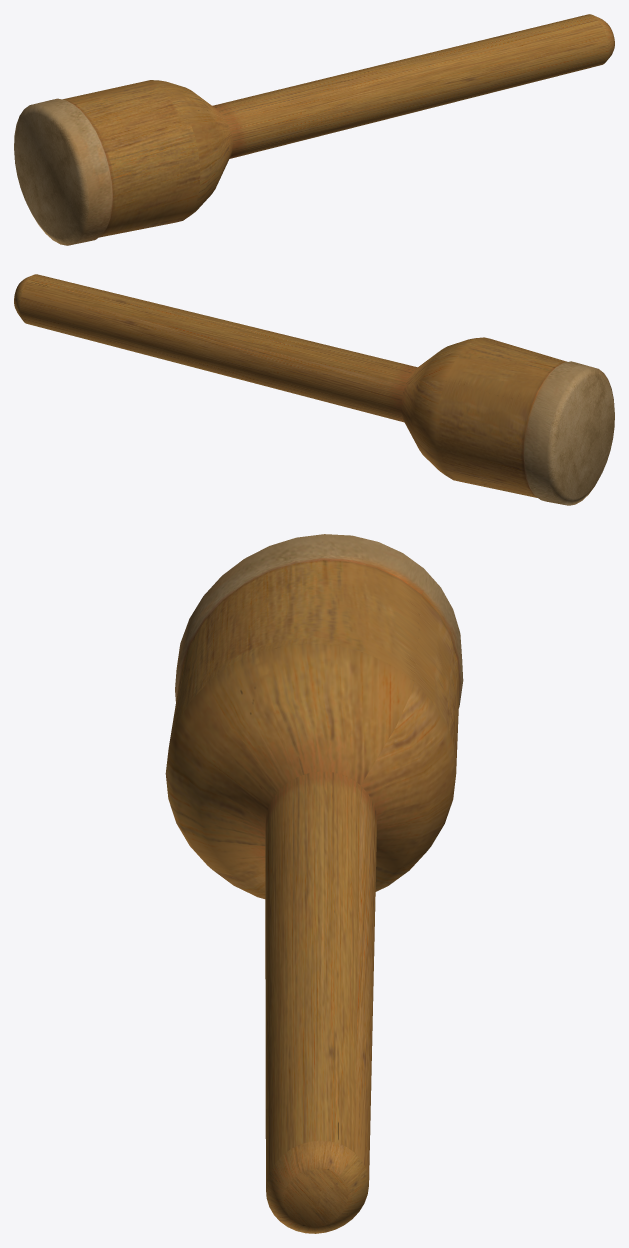
Rendered from quinjengue.glb.
3 views of the same model, one above another, from view 1: azimuth 30°, elevation 25°; view 2: azimuth 150°, elevation 25°; view 3: azimuth 270°, elevation 25° (orthographic). The views are drawn at different scales.
Visible parts, largest first — view 1: Cylinder.006; view 2: Cylinder.006; view 3: Cylinder.006.
Boxes of the visible parts, x1,y1,x2,y2 form: Cylinder.006: (14, 14, 614, 245); Cylinder.006: (14, 274, 614, 505); Cylinder.006: (165, 534, 463, 1233).
Bounding box in the file's own units: 6.01 × 1.36 × 1.38.
Materials: 1 (1 with a texture image).
